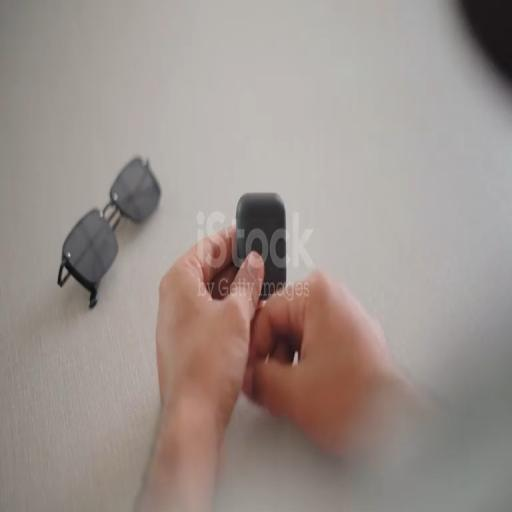earphone: (235, 192, 294, 299)
